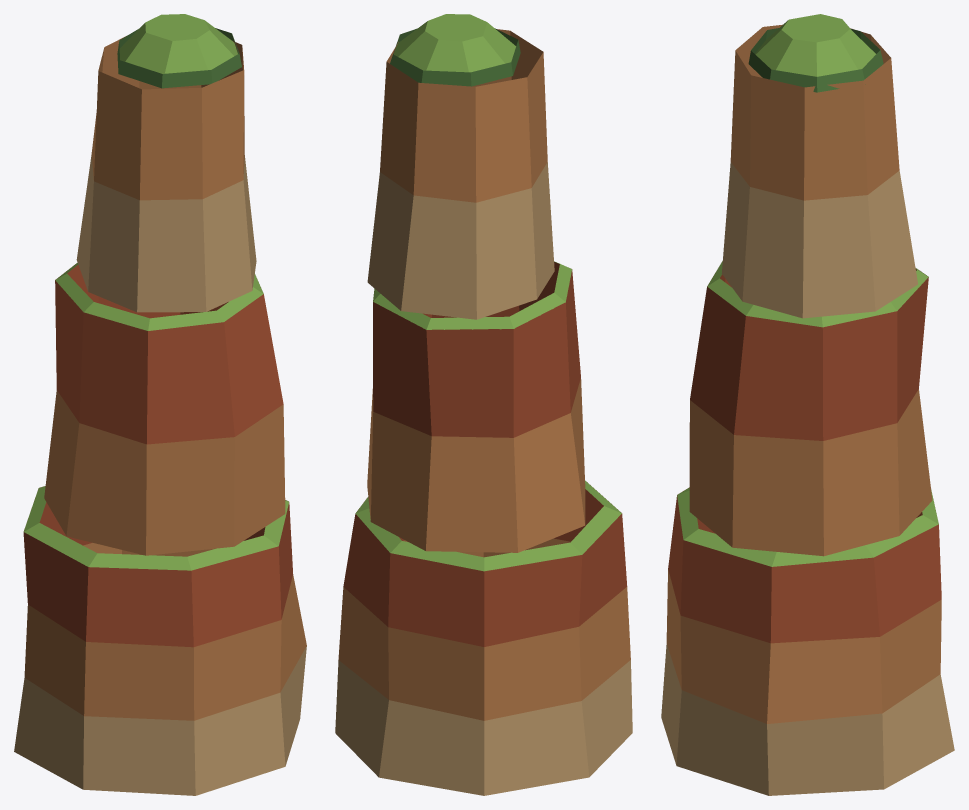
File: rock_spire_b.glb
3 views of the same model, side by side, from view 1: azimuth 30°, elevation 25°; view 2: azimuth 150°, elevation 25°; view 3: azimuth 270°, elevation 25° (orthographic). The views are drawn at different scales.
Parts seen in each view (by area): view 1: rock_spire_b; view 2: rock_spire_b; view 3: rock_spire_b.
Part boxes in pixels (x1,y1,x2,y2): rock_spire_b: [14, 14, 306, 795]; rock_spire_b: [335, 14, 632, 795]; rock_spire_b: [661, 14, 954, 795].
Bounding box in the file's own units: 8.9 × 23.45 × 8.7.
